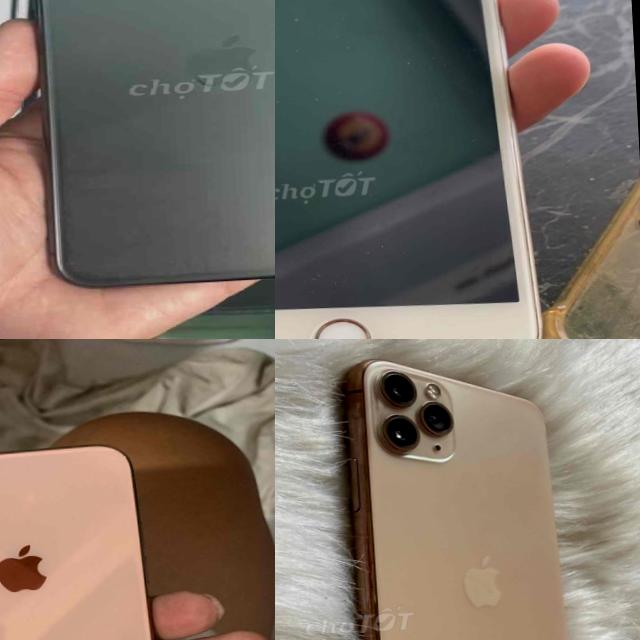gen_11: (323, 343, 604, 640), (19, 0, 275, 295)
gen_6: (275, 0, 562, 339)
gen_x_xs: (0, 436, 199, 640)
